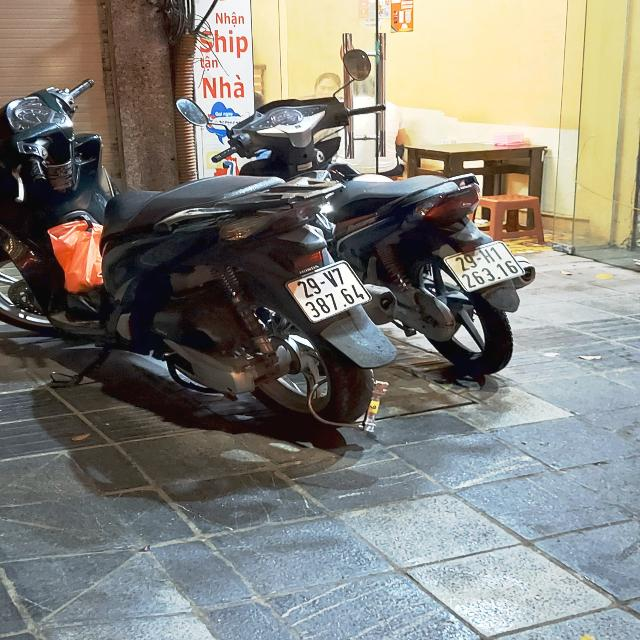license_plate: (279, 256, 379, 330), (432, 234, 532, 298)
